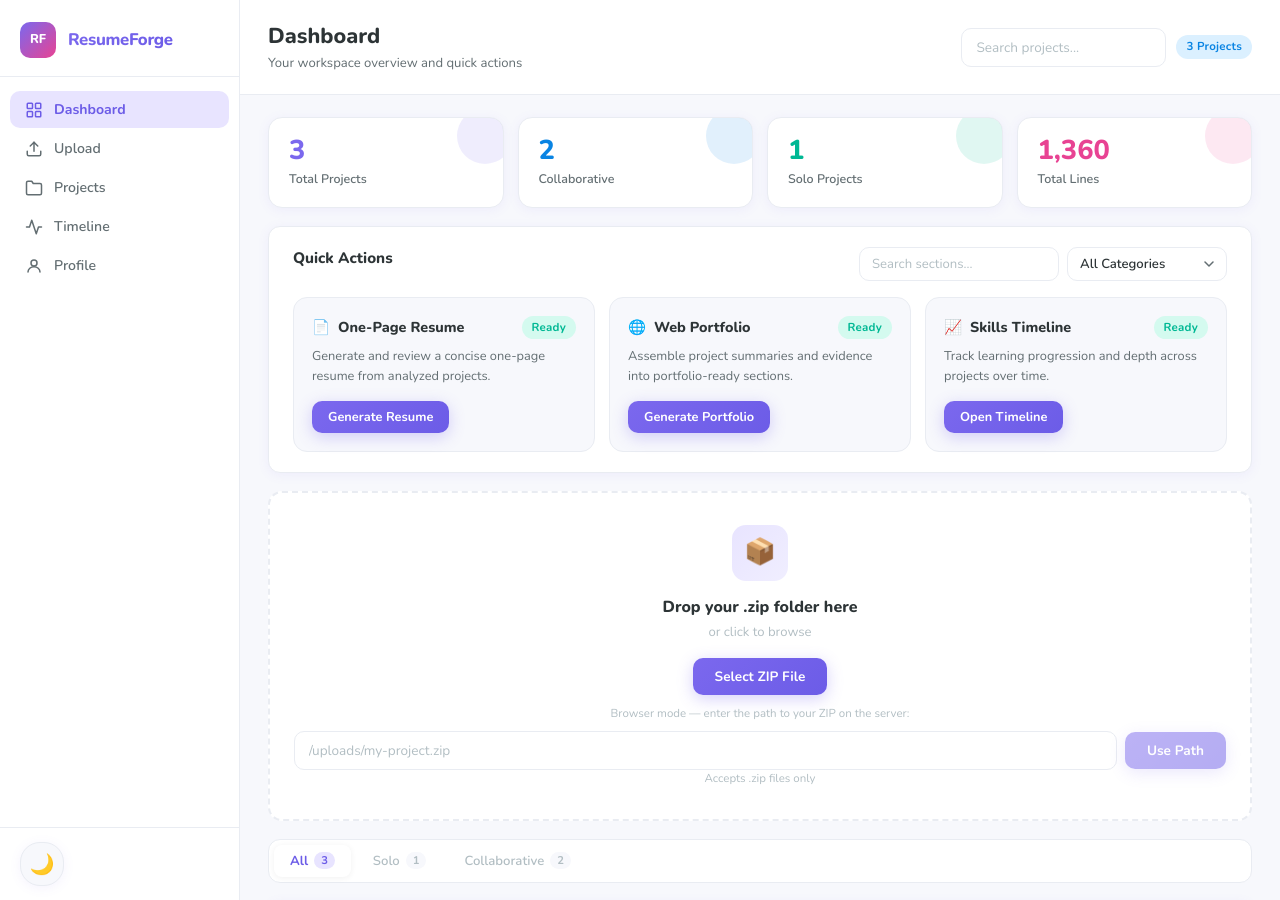
Test case: App Layout › shows resume validation in the modal footer flow
The width and height of the screenshot is (1280, 900).
Expected: the text "3 projects" is shown, x1=1176 y1=35 x2=1252 y2=59
Click the button "Generate Resume". click: coordinates (381, 417)
box: x1=312 y1=401 x2=449 y2=433
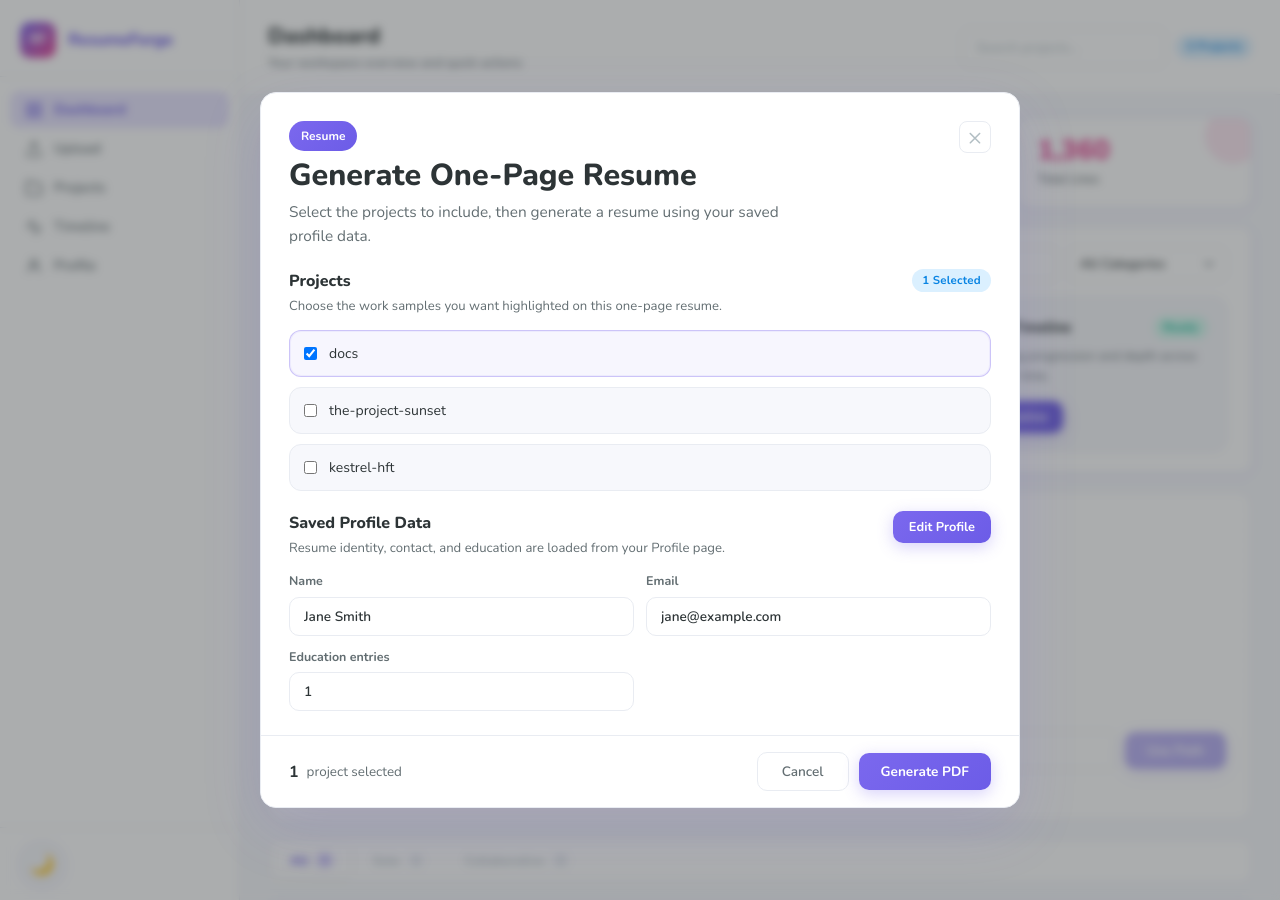
Now the dialog is shown
Click the checkbox labelled "docs". click: coordinates (310, 353)
box: x1=304 y1=347 x2=317 y2=360
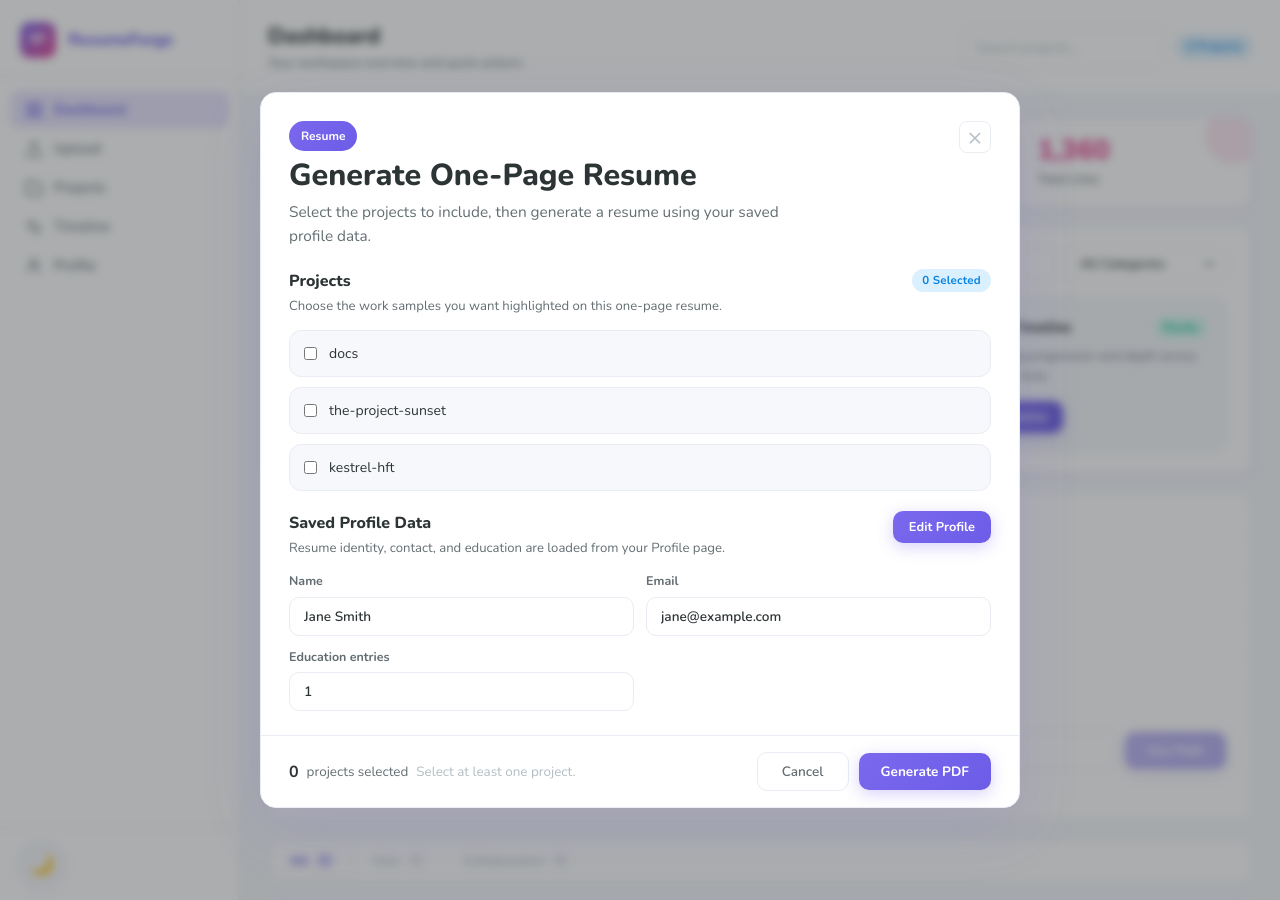
Click the button "Generate PDF". click: coordinates (925, 772)
box: x1=858 y1=753 x2=991 y2=790
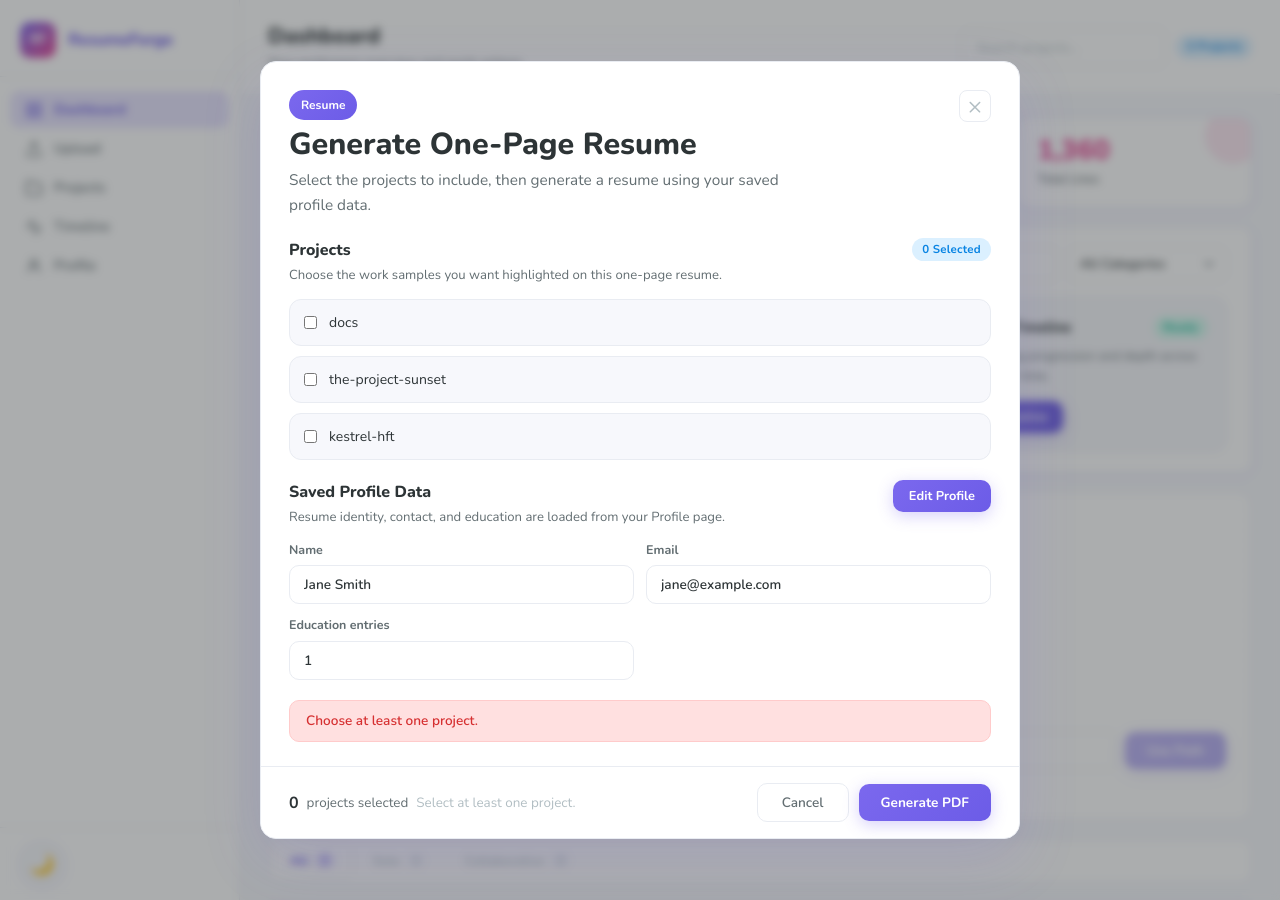
Now the text "Choose at least one project." is shown, box x1=289 y1=700 x2=991 y2=742
